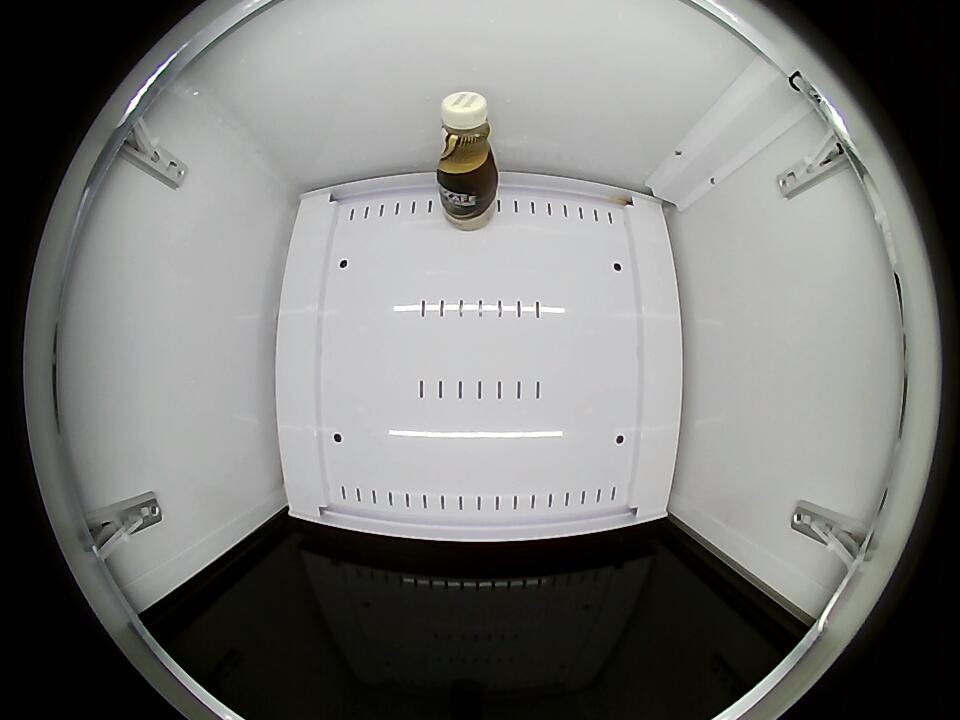kafei: (436, 90, 499, 191)
